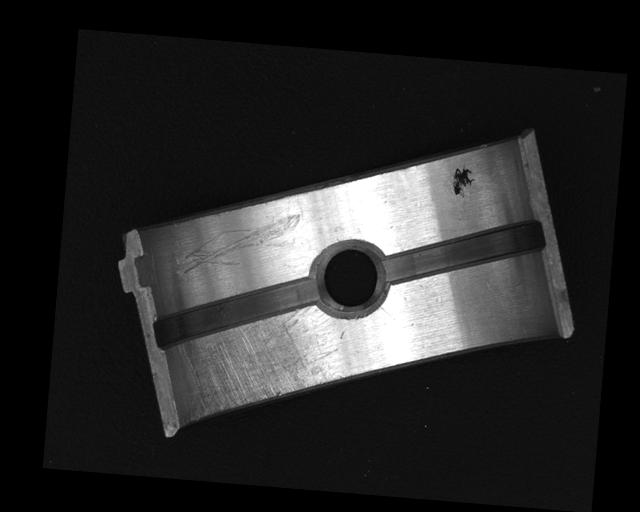blot: (448, 164, 478, 199)
gap: (151, 263, 323, 363), (380, 205, 547, 294)
hole: (315, 239, 388, 313)
nick: (177, 204, 303, 285)
scratch: (175, 290, 343, 433)
